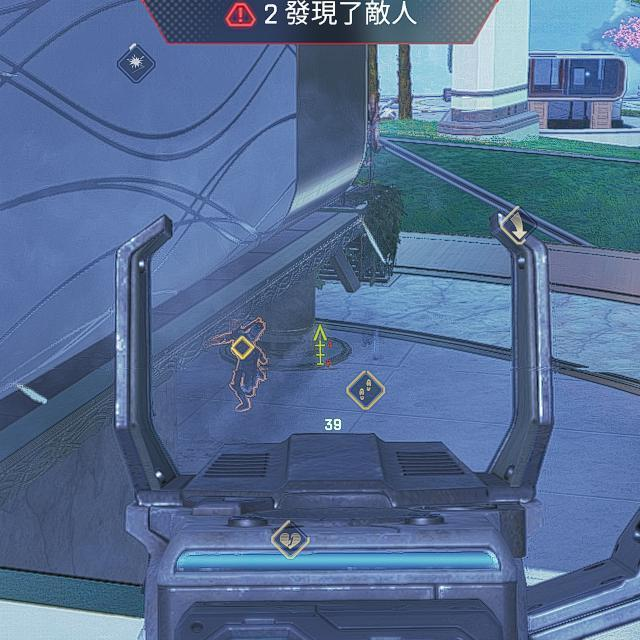avatar: (224, 316, 269, 413)
object: (229, 334, 255, 362)
